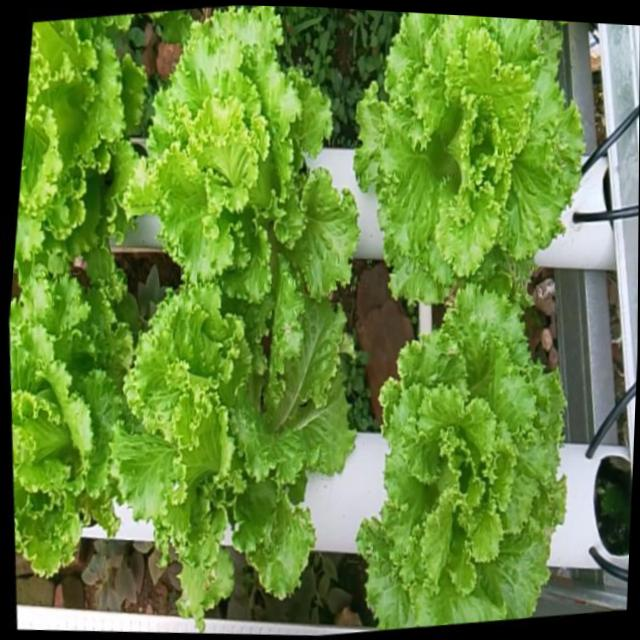Mature: (107, 289, 350, 618), (352, 273, 560, 630), (128, 6, 352, 323), (347, 11, 578, 300), (8, 275, 124, 578), (12, 17, 138, 283)
